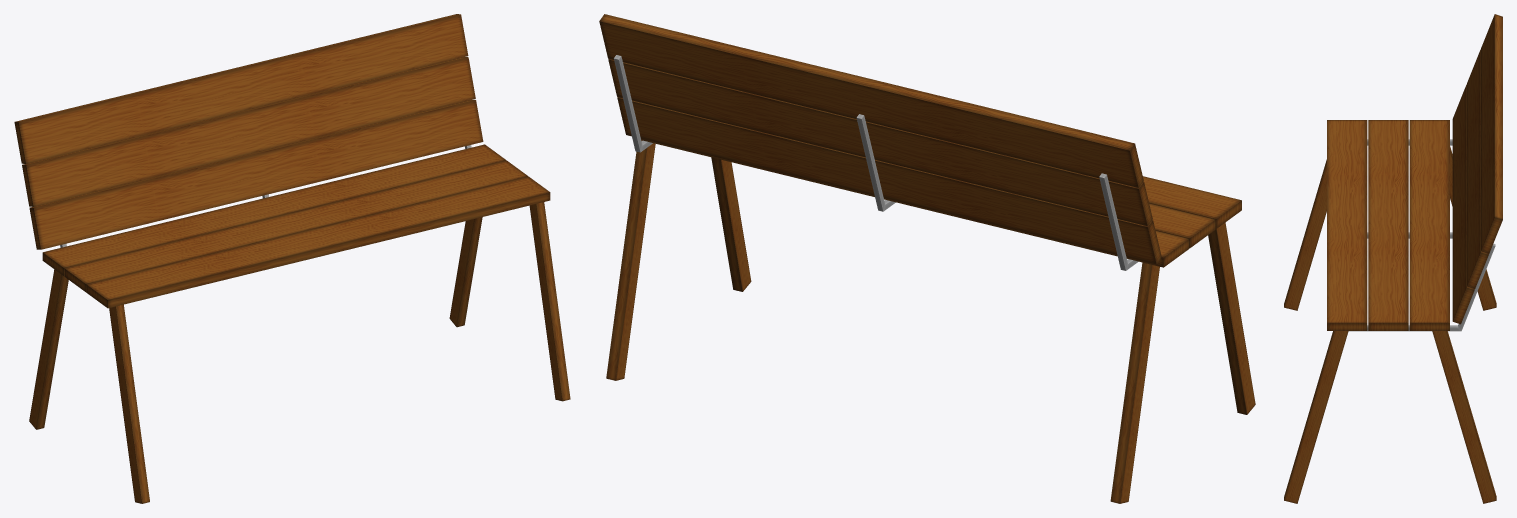
The picture shows the model from 3 angles, left to right: view 1: azimuth 30°, elevation 25°; view 2: azimuth 150°, elevation 25°; view 3: azimuth 270°, elevation 25°; orthographic projection. The views are drawn at different scales.
Parts seen in each view (by area): view 1: Box001; view 2: Box001; view 3: Box001.
Boxes of the visible parts, left/top/right/bottom form: Box001: left=14, top=14, right=570, bottom=503; Box001: left=599, top=14, right=1255, bottom=503; Box001: left=1284, top=14, right=1502, bottom=503.
Size of the model in its own units: 1.46 by 0.9685 by 0.6673.
1 material, 1 textured.
